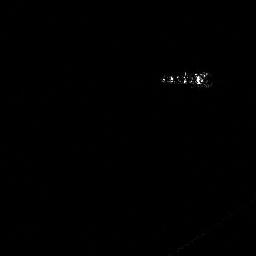ship: (159, 70, 211, 90)
